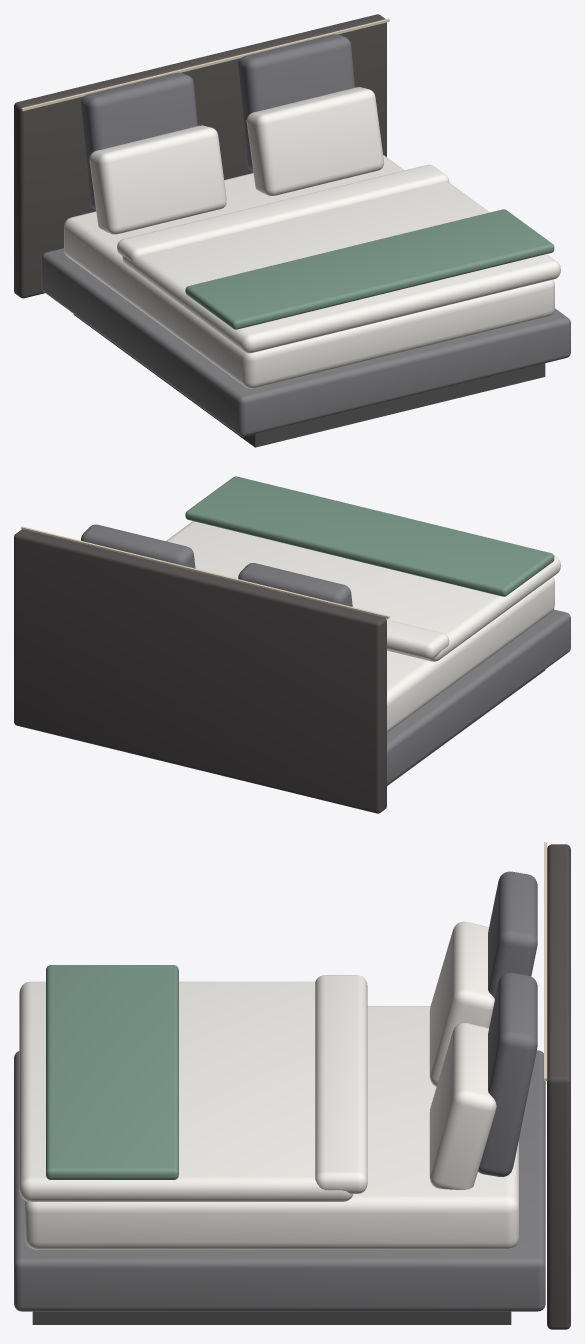
Rendered from it_bed_queen.glb.
3 renders of one model, top to bottom at view 1: azimuth 30°, elevation 25°; view 2: azimuth 150°, elevation 25°; view 3: azimuth 270°, elevation 25°, orthographic. The views are drawn at different scales.
Visible parts, largest first — view 1: base, duvet, mattress, headboard, throw, pillow0, pillow1, fold, euro1, euro0, plinth, headline; view 2: headboard, throw, duvet, base, mattress, euro0, euro1, fold, headline; view 3: duvet, base, mattress, throw, headboard, fold, pillow1, euro1, plinth, pillow0, euro0, headline.
Part boxes in pixels (x1,y1,x2,y2): base: (41, 248, 570, 436); duvet: (122, 181, 560, 353); mattress: (64, 155, 554, 388); headboard: (14, 14, 386, 298); throw: (185, 209, 554, 329); pillow0: (89, 125, 226, 234); pillow1: (246, 87, 383, 195); fold: (117, 164, 449, 260); euro1: (238, 34, 354, 171); euro0: (81, 72, 197, 209); plinth: (73, 314, 545, 447); headline: (21, 18, 389, 111); headboard: (14, 529, 386, 813); throw: (185, 476, 554, 596); duvet: (166, 521, 560, 661); base: (387, 609, 570, 784); mattress: (387, 577, 554, 732); euro0: (238, 563, 352, 606); euro1: (81, 524, 195, 568); fold: (386, 619, 449, 659); headline: (21, 526, 389, 618); duvet: (19, 981, 353, 1201); base: (14, 1050, 545, 1311); mattress: (24, 1006, 518, 1249); throw: (46, 965, 178, 1179); headboard: (547, 844, 570, 1329); fold: (315, 975, 367, 1193); pillow1: (429, 1022, 496, 1189); euro1: (478, 972, 537, 1176); plinth: (32, 1311, 511, 1324); pillow0: (429, 921, 494, 1086); euro0: (488, 871, 537, 998); headline: (544, 842, 547, 1080).
Size of the model in its own units: 2.1 by 1.16 by 2.09.
